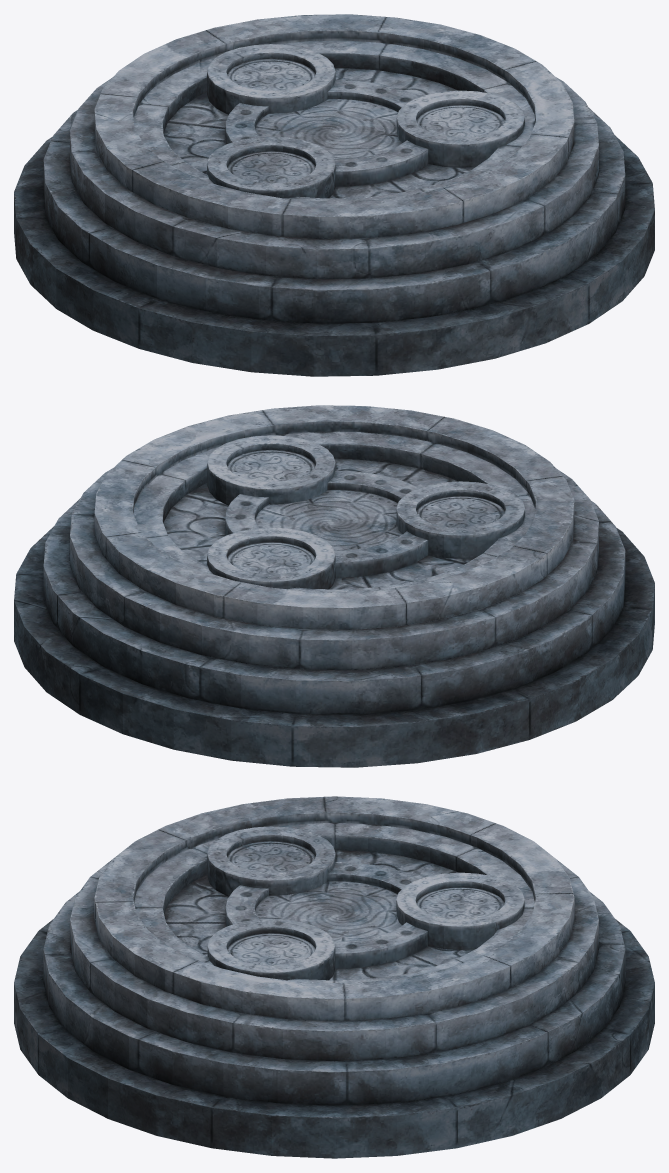
The model's file is spawner.glb.
The picture shows the model from 3 angles, top to bottom: view 1: azimuth 30°, elevation 25°; view 2: azimuth 150°, elevation 25°; view 3: azimuth 270°, elevation 25°; orthographic projection.
Size of the model in its own units: 2.5 by 0.5395 by 2.5.
Materials: 1 (1 with a texture image).
